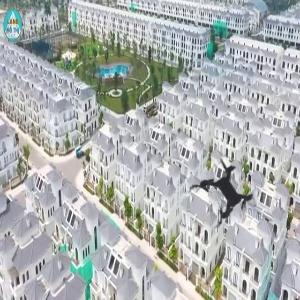drone: (169, 139, 282, 252)
